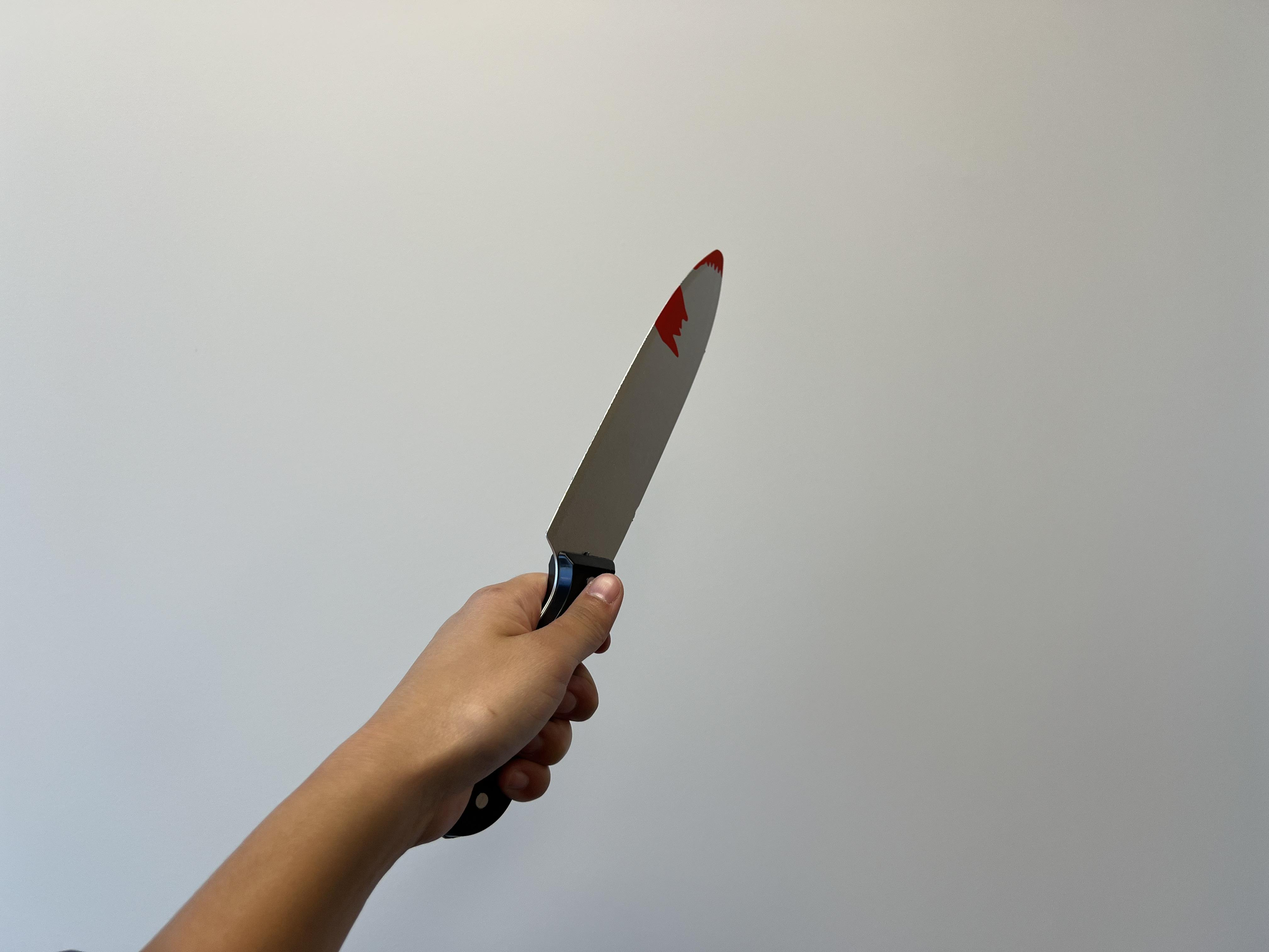Knife: (144, 574, 625, 952), (519, 252, 729, 621), (362, 575, 632, 835)
